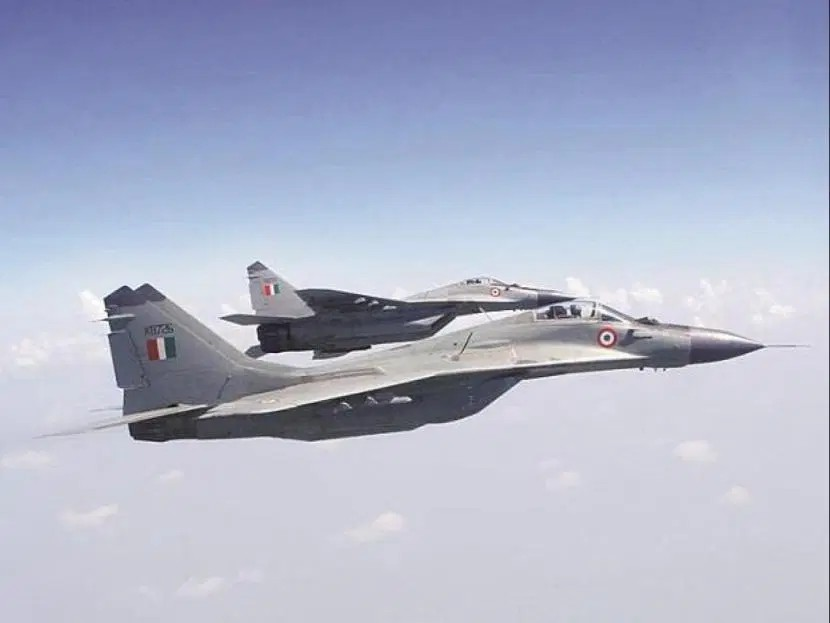Mig-29: (29, 270, 788, 455), (206, 246, 569, 352)
